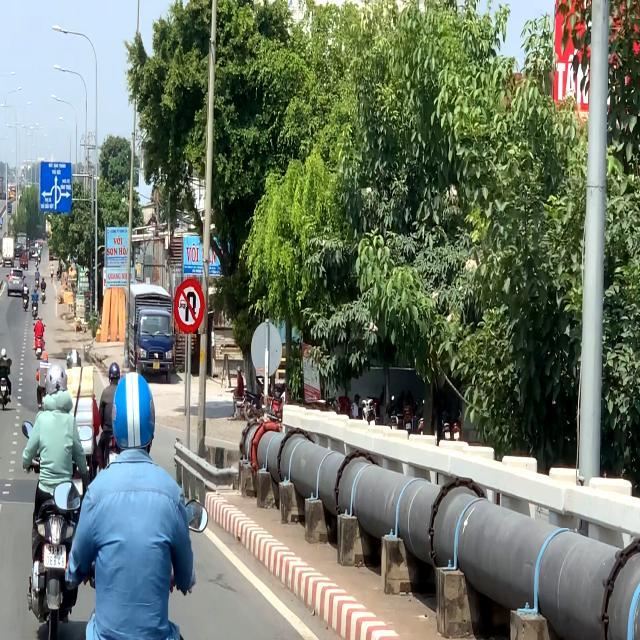P-124b: (174, 277, 208, 334)
